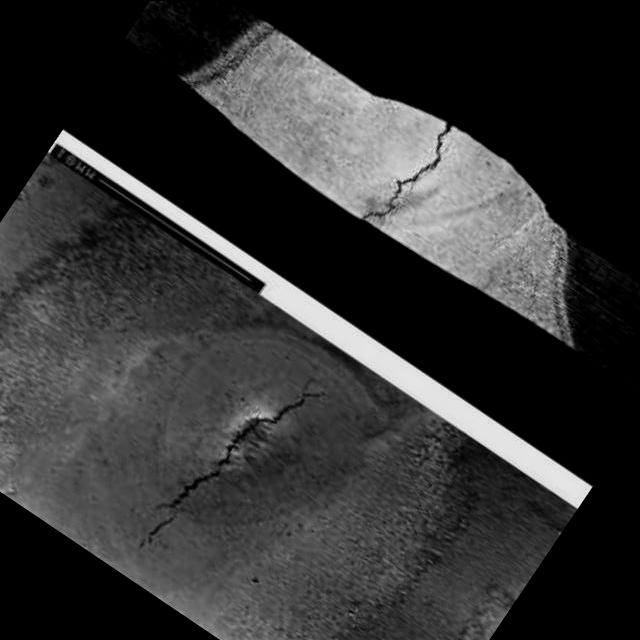defect: (143, 388, 339, 552), (358, 118, 458, 220)
